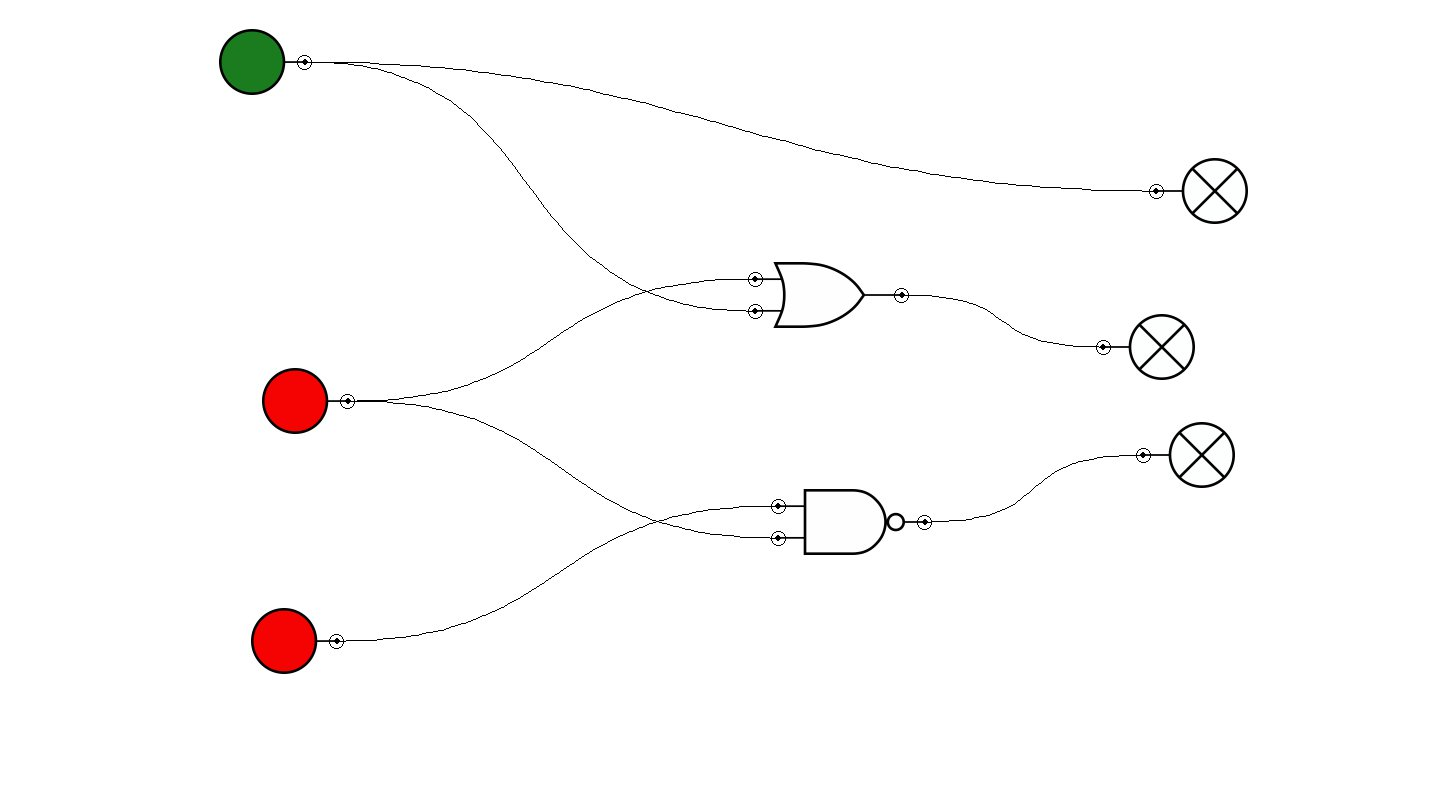bulb: (1149, 158, 1248, 224), (1136, 422, 1235, 488), (1096, 314, 1195, 380)
nand: (771, 489, 932, 555)
or: (748, 262, 909, 328)
switch_False: (262, 368, 355, 434), (251, 608, 344, 674)
switch_True: (219, 29, 312, 95)
